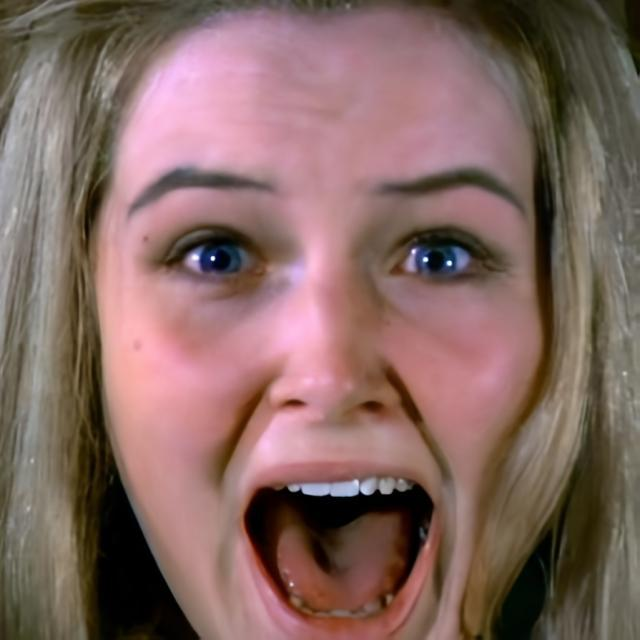fear: (91, 0, 554, 640)
